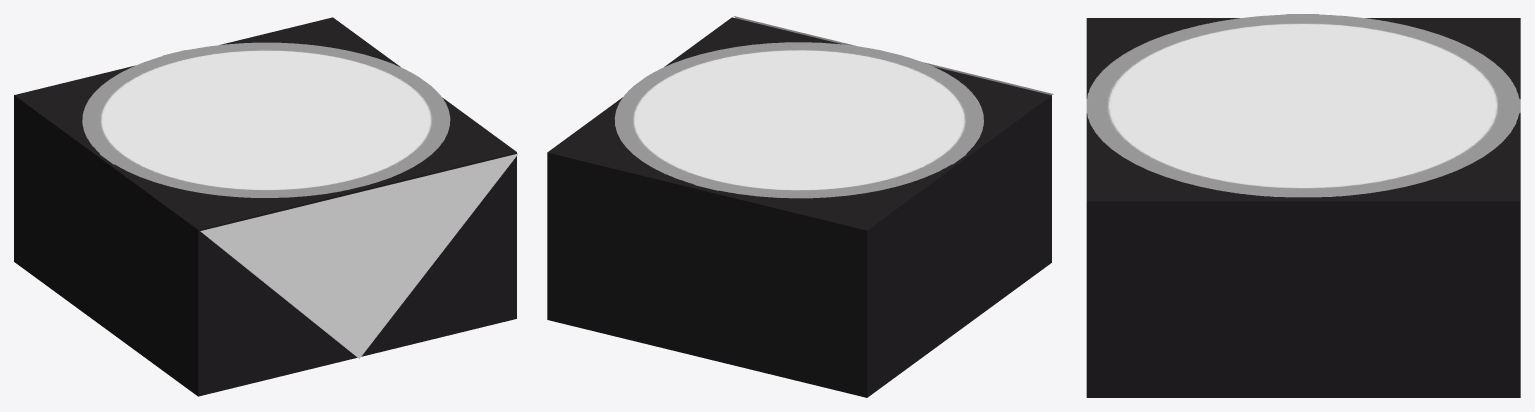
File: gyro.obj
3 views of the same model, side by side, from view 1: azimuth 30°, elevation 25°; view 2: azimuth 150°, elevation 25°; view 3: azimuth 270°, elevation 25° (orthographic). The views are drawn at different scales.
Parts seen in each view (by area): view 1: Gyro1, Gyro2, Gyro3; view 2: Gyro1, Gyro2, Gyro3; view 3: Gyro1, Gyro2.
Boxes of the visible parts, x1,y1,x2,y2 form: Gyro1: [14, 17, 516, 396]; Gyro2: [82, 42, 450, 197]; Gyro3: [200, 153, 518, 358]; Gyro1: [547, 17, 1051, 397]; Gyro2: [614, 42, 983, 198]; Gyro3: [734, 16, 1053, 95]; Gyro1: [1086, 18, 1520, 397]; Gyro2: [1086, 14, 1520, 197].
Size of the model in its own units: 2 by 1.02 by 2.02.
3 materials, 2 textured.
